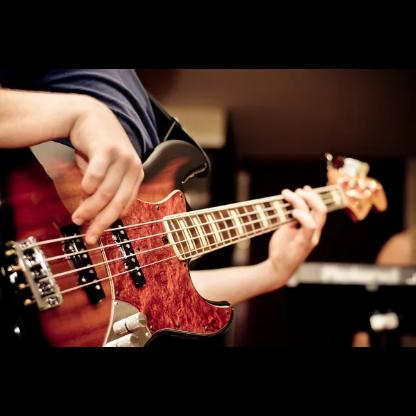bass: (0, 138, 386, 343)
